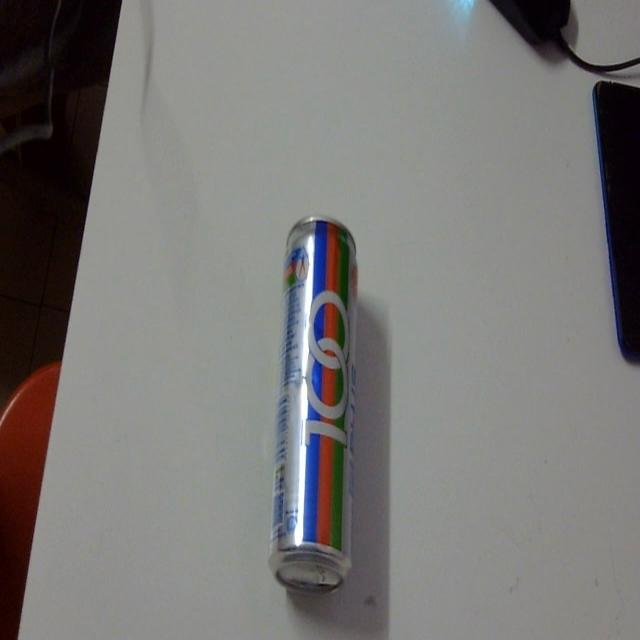metal_laydown_90rotation: (265, 200, 363, 608)
